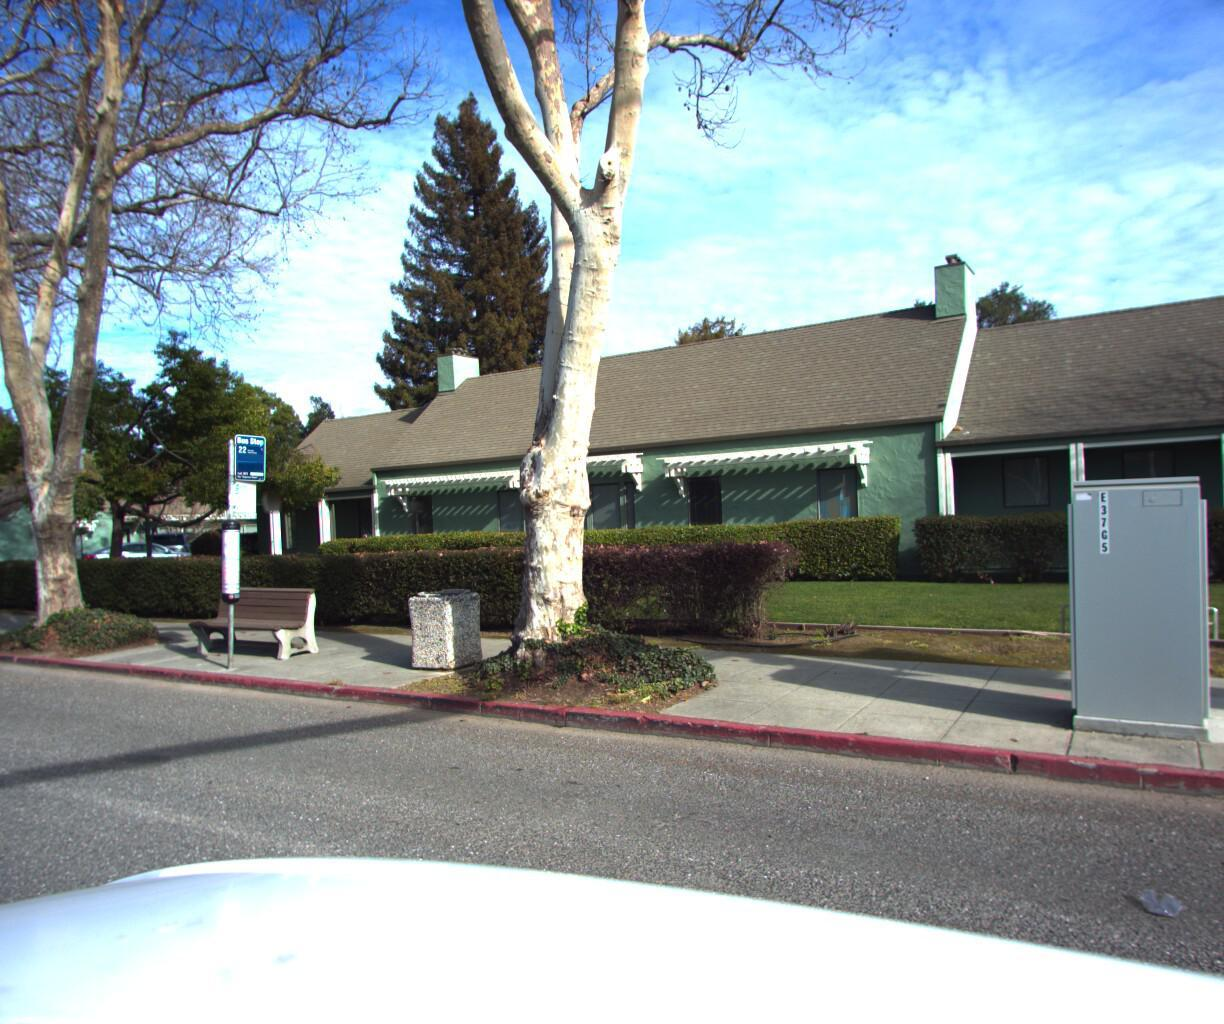car: (67, 528, 207, 577), (140, 523, 216, 571)
